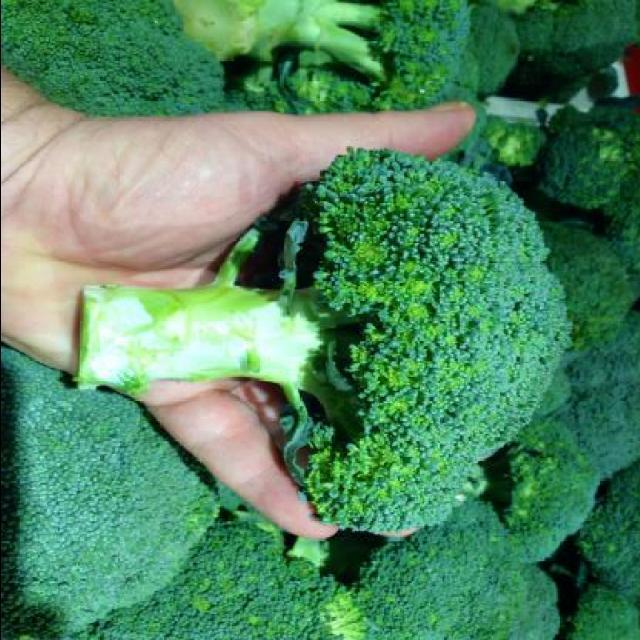Broccoli: (2, 0, 640, 638), (71, 147, 574, 536)
